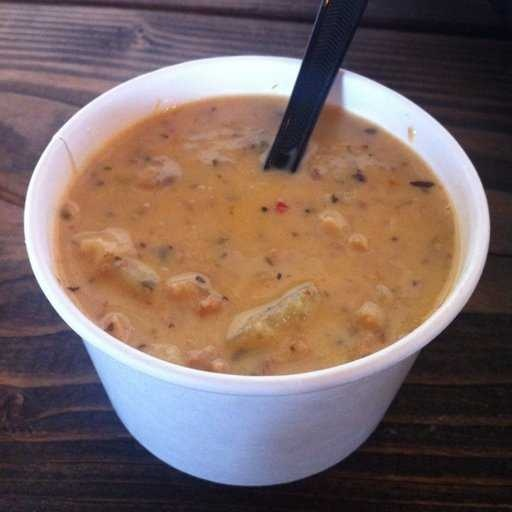soup: (48, 50, 451, 398)
